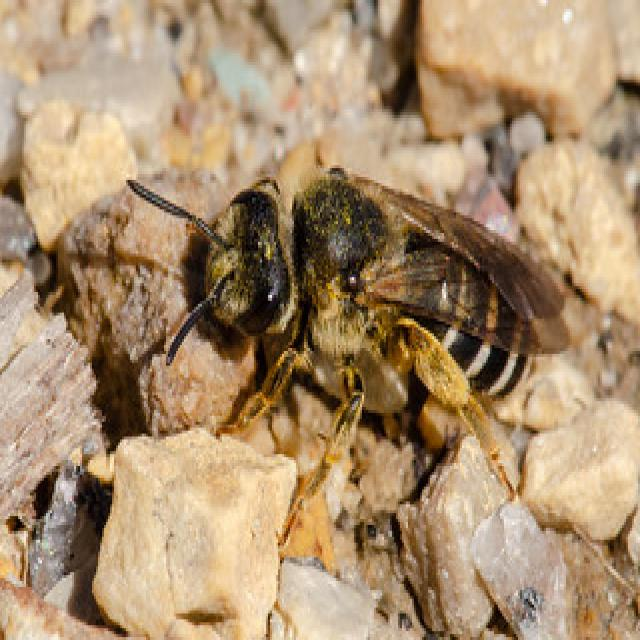Abeille: (125, 132, 580, 520)
